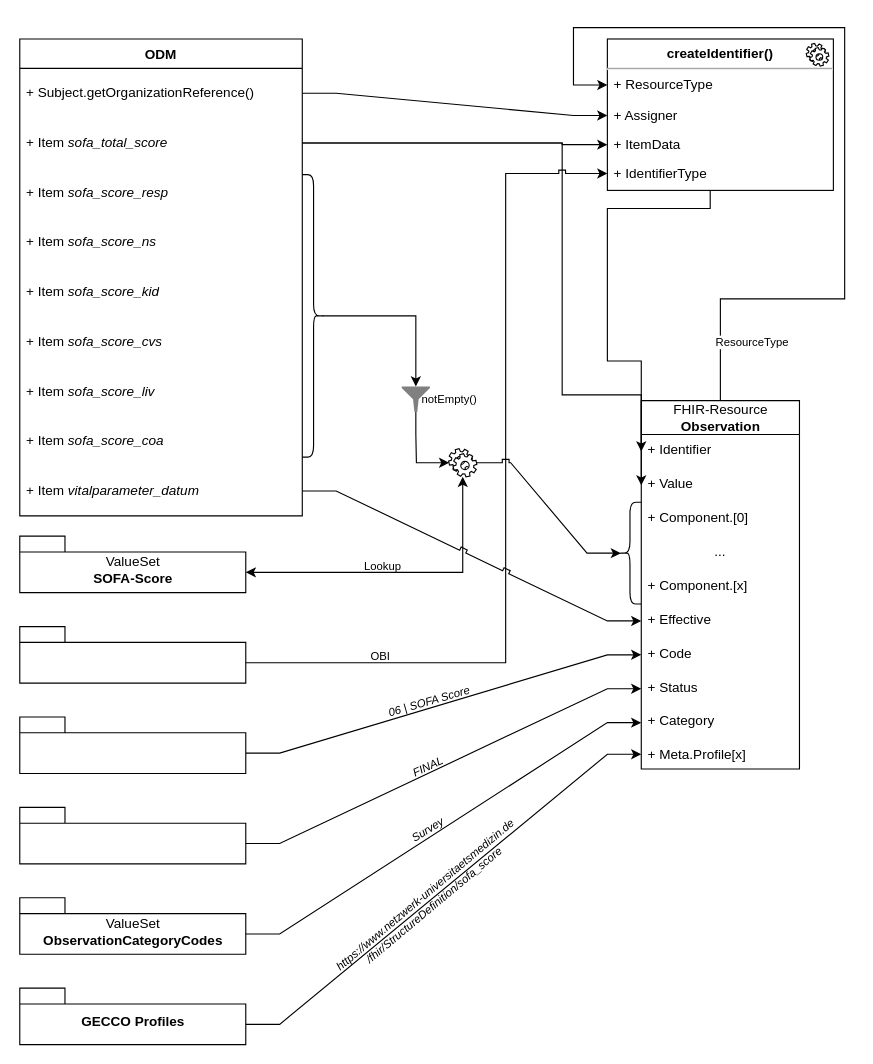
The diagram is 873 pixels wide and 1064 high, and some of its shapes have lost their labels. Here are the shapes that lost their labels. From the top down, the centre of each, then its label:
At (x=132, y=654): "ValueSet IdentifierTypeCodes".
At (x=132, y=744): "ValueSet eCRF Parameter Codes".
At (x=132, y=835): "ValueSet ObservationStatus".
